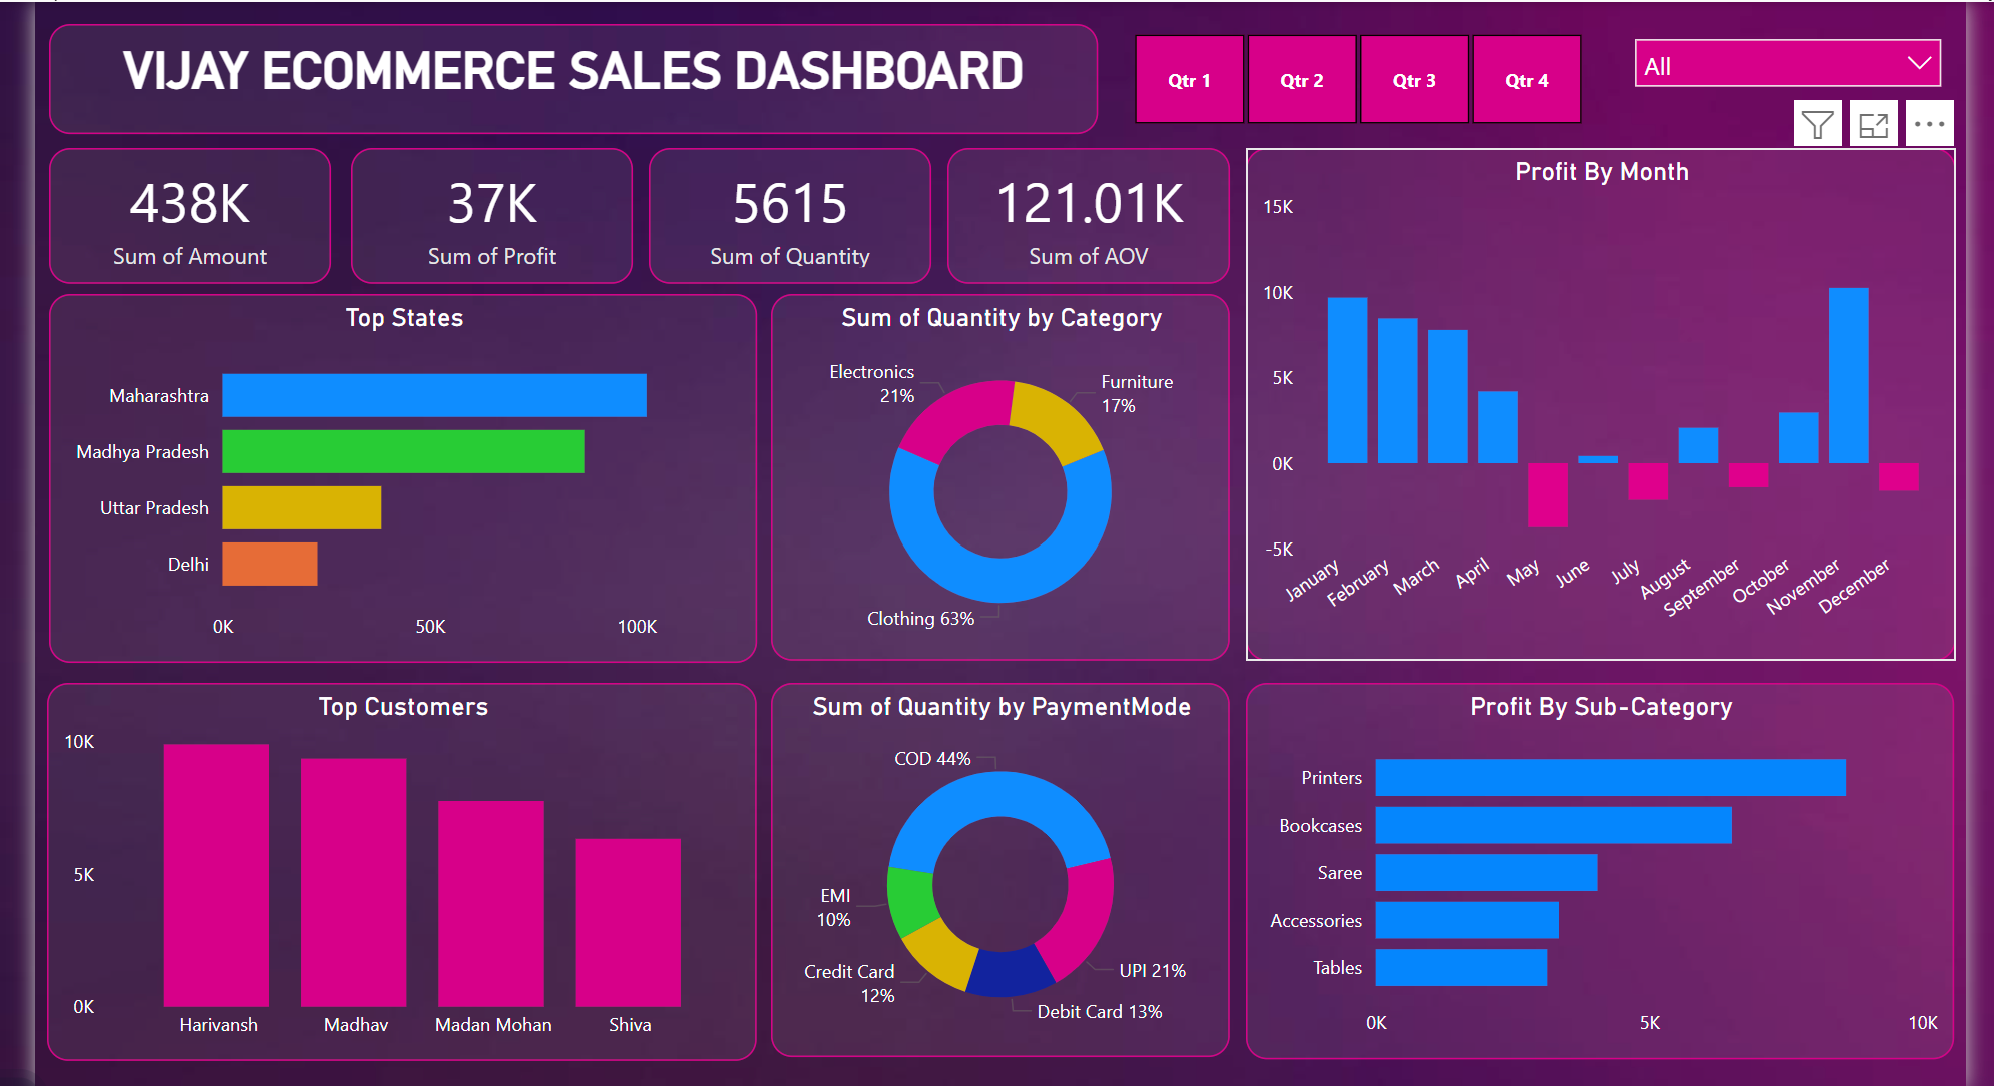

Layout of this report page (visuals, bound fields, positions):
{"tool":"powerbi","page":{"name":"Page 1","canvas":[1280,720],"ordinal":0},"visuals":[{"type":"textbox","box":[9.3,14.6,694.8,72.9],"z":0},{"type":"columnChart","title":"Profit By Month","fields":{"Category":["Orders.Order Date.Variation.Date Hierarchy.Month"],"Y":["Details.Profit"]},"box":[802.2,96.8,470.7,339.4],"z":1000},{"type":"barChart","title":"Profit By Sub-Category","fields":{"Category":["Details.Sub-Category"],"Y":["Details.Profit"]},"box":[802.2,450.8,469.4,249.3],"z":2000},{"type":"donutChart","fields":{"Category":["Details.Category"],"Y":["Details.Quantity"]},"box":[488,193.6,303.6,242.7],"z":3000},{"type":"donutChart","fields":{"Y":["Details.Quantity"],"Category":["Details.PaymentMode"]},"box":[488,450.8,303.6,248],"z":4000},{"type":"card","fields":{"Values":["Details.Amount"]},"box":[9.3,96.8,187,90.2],"z":5000},{"type":"card","fields":{"Values":["Details.AOV"]},"box":[604.6,96.8,187,90.2],"z":6000},{"type":"card","fields":{"Values":["Details.Quantity"]},"box":[407.1,96.8,187,90.2],"z":7000},{"type":"card","fields":{"Values":["Details.Profit"]},"box":[209.5,96.8,187,90.2],"z":8000},{"type":"barChart","title":"Top States","fields":{"Category":["Orders.State"],"Y":["Details.Amount"]},"box":[9.3,193.6,469.4,244],"z":9000},{"type":"columnChart","title":"Top Customers","fields":{"Category":["Orders.CustomerName"],"Y":["Details.Amount"]},"box":[8,450.8,470.7,250.6],"z":10000},{"type":"slicer","fields":{"Values":["Orders.Order Date.Variation.Date Hierarchy.Quarter"]},"box":[702.8,14.6,346.1,72.9],"z":11000},{"type":"slicer","fields":{"Values":["Orders.State"]},"box":[1050.2,14.6,222.8,72.9],"z":12000}]}

Visuals, with their boxes in screenshot pixels (x1, y1, x2, y2):
textbox: rect(25, 0, 1095, 62)
"Profit By Month" columnChart: rect(1247, 76, 1972, 600)
"Profit By Sub-Category" barChart: rect(1247, 622, 1970, 1006)
donutChart - Details.Category x Details.Quantity: rect(762, 226, 1230, 600)
donutChart - Details.Quantity x Details.PaymentMode: rect(762, 622, 1230, 1004)
card - Details.Amount: rect(25, 76, 313, 215)
card - Details.AOV: rect(942, 76, 1230, 215)
card - Details.Quantity: rect(638, 76, 926, 215)
card - Details.Profit: rect(333, 76, 621, 215)
"Top States" barChart: rect(25, 226, 748, 602)
"Top Customers" columnChart: rect(23, 622, 748, 1008)
slicer - Orders.Order Date.Variation.Date Hierarchy.Quarter: rect(1093, 0, 1627, 62)
slicer - Orders.State: rect(1629, 0, 1972, 62)
